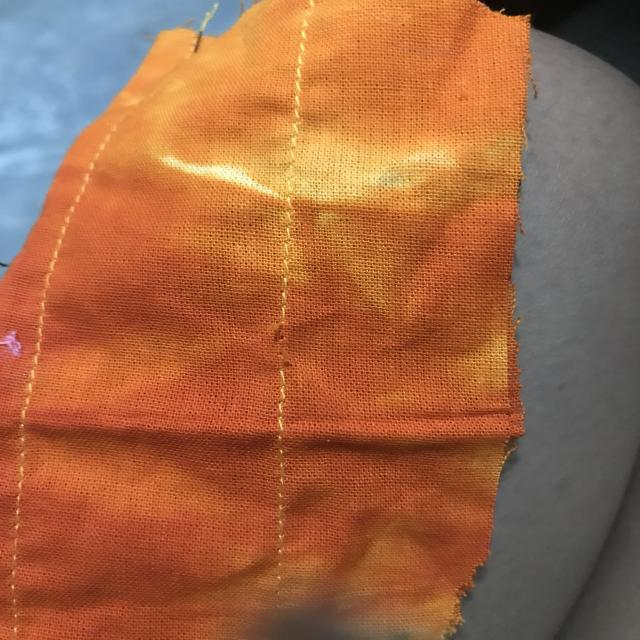broken: (258, 309, 334, 386)
good: (267, 198, 303, 282), (274, 410, 306, 504)
